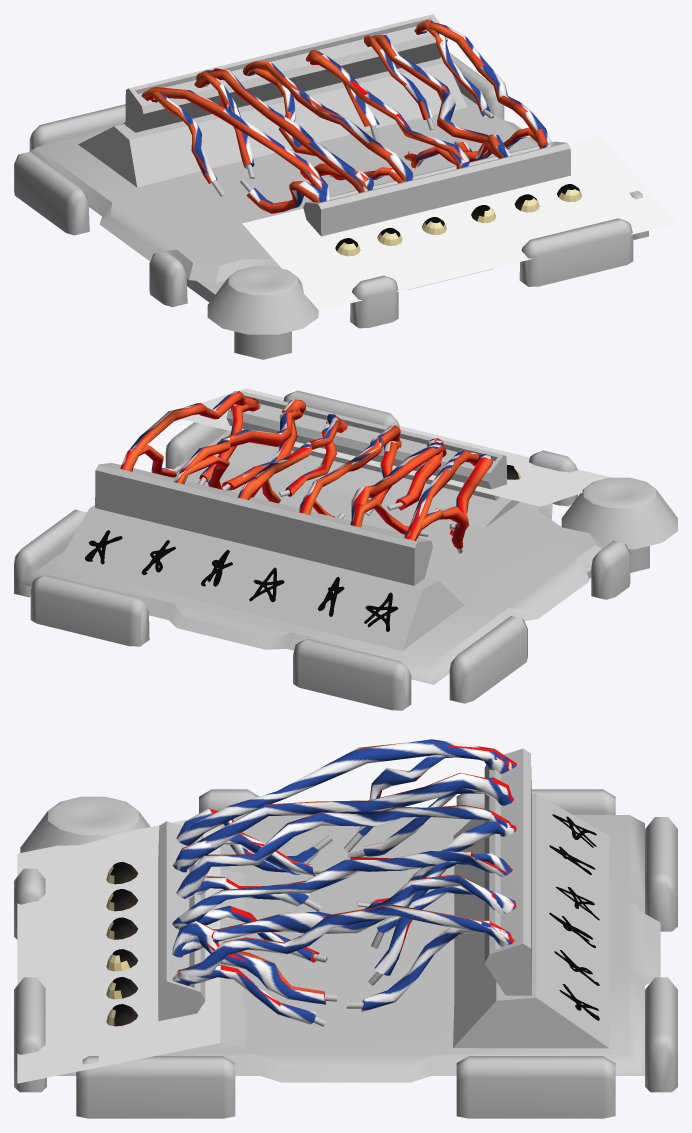
File: VennWiresComponent.fbx
3 renders of one model, top to bottom at view 1: azimuth 30°, elevation 25°; view 2: azimuth 150°, elevation 25°; view 3: azimuth 270°, elevation 25°, orthographic. The views are drawn at different scales.
Visible parts, largest first — view 1: Component_PuzzleBackground, group1, LightGlow1, LightGlow4, LightGlow6, LightGlow5, Wires_Unsnipped_6 (×2), Wires_Unsnipped_5 (×2), Wires_Unsnipped_4 (×2), Wires_Unsnipped_2 (×2), Wires_Unsnipped_1 (×2), Wires_Unsnipped_3 (×2) (+8 smaller); view 2: Component_PuzzleBackground, group1, LightGlow6, Wires_Unsnipped_2, Wires_Unsnipped_1, Wires_Unsnipped_4, Wires_Unsnipped_5, Wires_Unsnipped_6, LightGlow4, Wires_Unsnipped_3, Wires_Snipped_2R, Wires_Snipped_5R (+12 smaller); view 3: Component_PuzzleBackground, group1, LightGlow1, LightGlow5, Wires_Unsnipped_6, Wires_Unsnipped_4, LightGlow6, Wires_Unsnipped_5, Wires_Unsnipped_1, Wires_Unsnipped_3, Wires_Unsnipped_2, LightGlow3 (+14 smaller).
Boxes of the visible parts, x1,y1,x2,y2 form: Component_PuzzleBackground: (14,53,648,359); group1: (78,14,570,236); LightGlow1: (487,136,677,241); LightGlow4: (352,196,532,289); LightGlow6: (242,208,402,310); LightGlow5: (284,207,479,300); Wires_Unsnipped_6 (×2): (141,87,330,200); Wires_Unsnipped_5 (×2): (194,68,367,192); Wires_Unsnipped_4 (×2): (243,61,414,181); Wires_Unsnipped_2 (×2): (366,35,500,158); Wires_Unsnipped_1 (×2): (414,22,552,147); Wires_Unsnipped_3 (×2): (310,55,469,168); Component_PuzzleBackground: (14,390,677,710); group1: (56,391,520,651); LightGlow6: (410,445,610,506); Wires_Unsnipped_2: (180,409,302,484); Wires_Unsnipped_1: (120,391,260,471); Wires_Unsnipped_4: (300,425,400,514); Wires_Unsnipped_5: (351,444,446,527); Wires_Unsnipped_6: (406,450,479,540); LightGlow4: (312,426,529,483); Wires_Unsnipped_3: (251,415,344,497); Wires_Snipped_2R: (222,399,305,490); Wires_Snipped_5R: (387,438,443,510); Component_PuzzleBackground: (14,789,677,1118); group1: (158,748,609,1048); LightGlow1: (17,958,220,1083); LightGlow5: (17,847,220,968); Wires_Unsnipped_6: (177,739,515,845); Wires_Unsnipped_4: (176,806,510,898); LightGlow6: (17,819,220,922); Wires_Unsnipped_5: (172,773,511,870); Wires_Unsnipped_1: (172,905,512,985); Wires_Unsnipped_3: (175,851,507,929); Wires_Unsnipped_2: (172,875,505,955); LightGlow3: (17,905,220,989).
Bounding box in the file's own units: 0.2012 × 0.0653 × 0.2.
